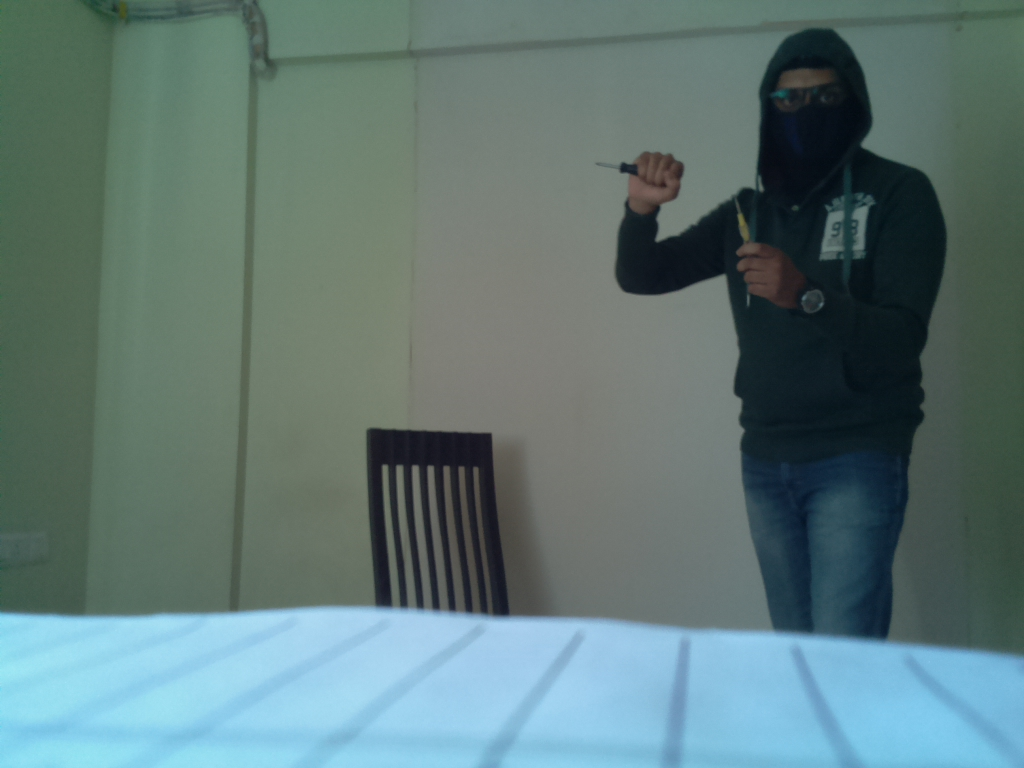none2: (795, 281, 830, 314)
none3: (584, 159, 664, 182), (727, 195, 752, 257)
